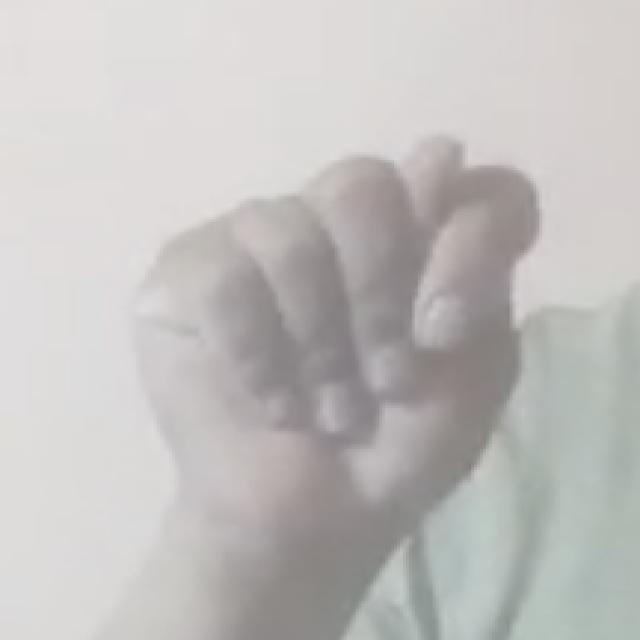T: (112, 114, 554, 551)
